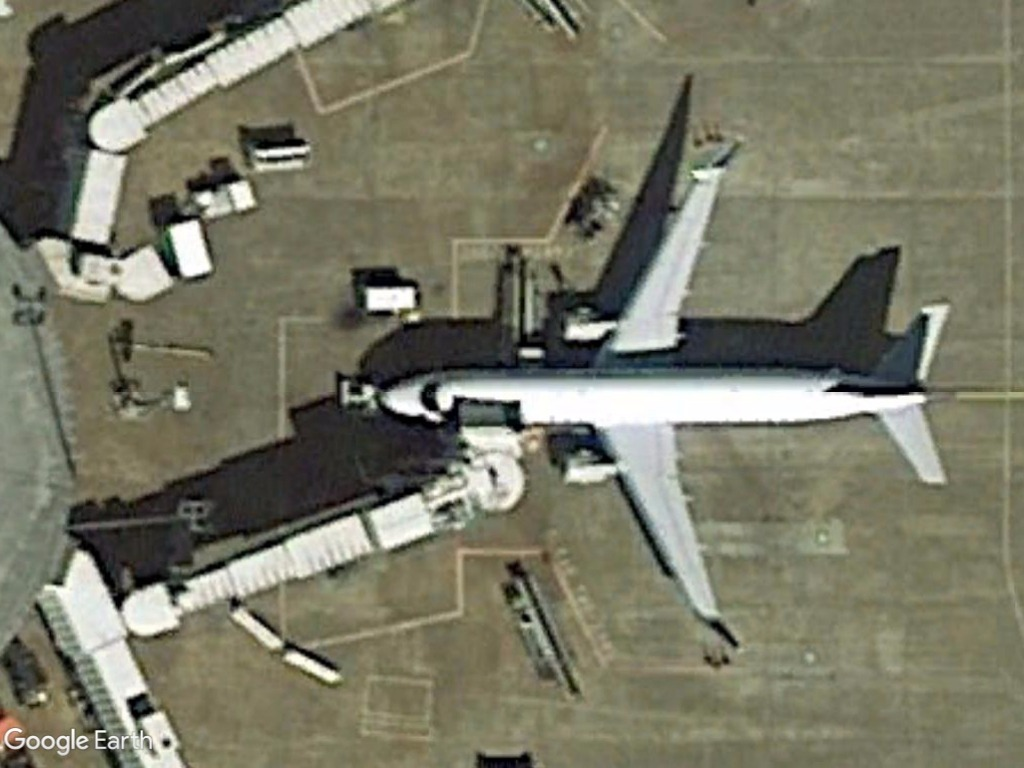airliner: (367, 159, 956, 650)
